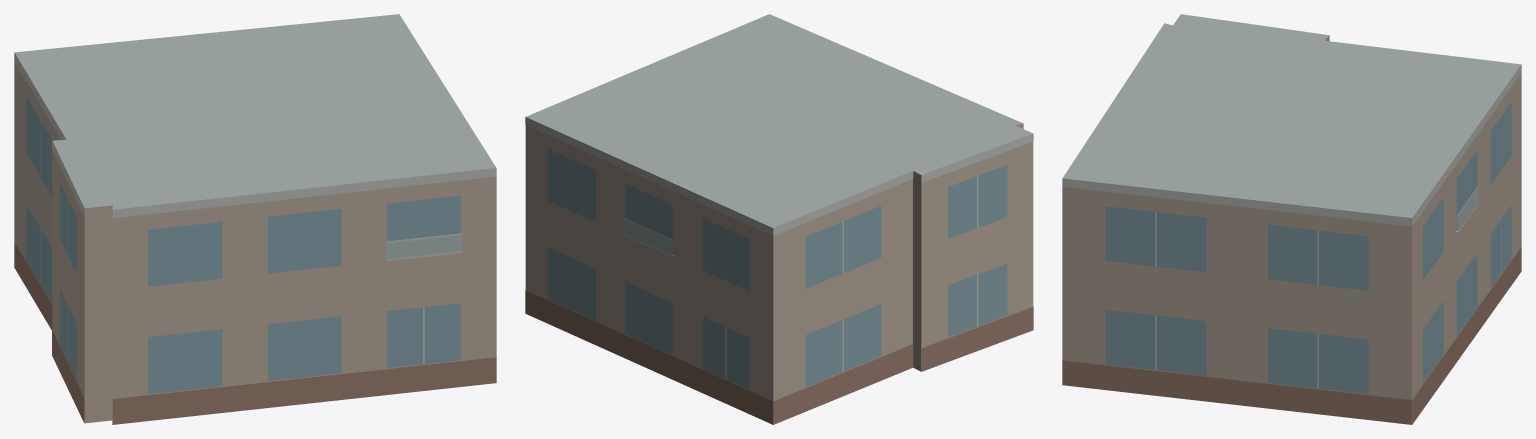
File: survey-upis-32951182.glb
The picture shows the model from 3 angles, left to right: view 1: azimuth 30°, elevation 25°; view 2: azimuth 150°, elevation 25°; view 3: azimuth 270°, elevation 25°; orthographic projection. The views are drawn at different scales.
Parts seen in each view (by area): view 1: survey-upis-32951182.tmp; view 2: survey-upis-32951182.tmp; view 3: survey-upis-32951182.tmp.
Boxes of the visible parts, x1,y1,x2,y2 form: survey-upis-32951182.tmp: (14,14,496,424); survey-upis-32951182.tmp: (525,14,1033,424); survey-upis-32951182.tmp: (1062,14,1521,424).
Bounding box in the file's own units: 12.93 × 6.1 × 12.29.
